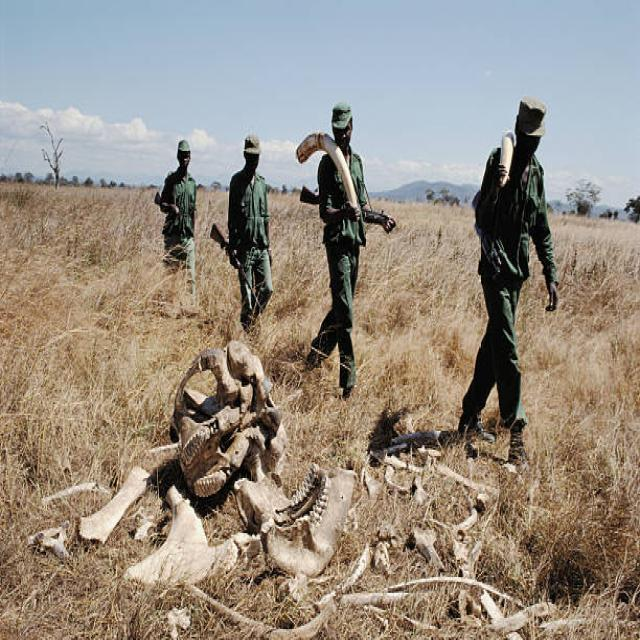Hunter: (453, 74, 570, 450), (304, 91, 388, 381), (230, 117, 275, 330), (152, 130, 205, 294)
Rifle: (210, 216, 266, 314), (299, 180, 399, 234)
